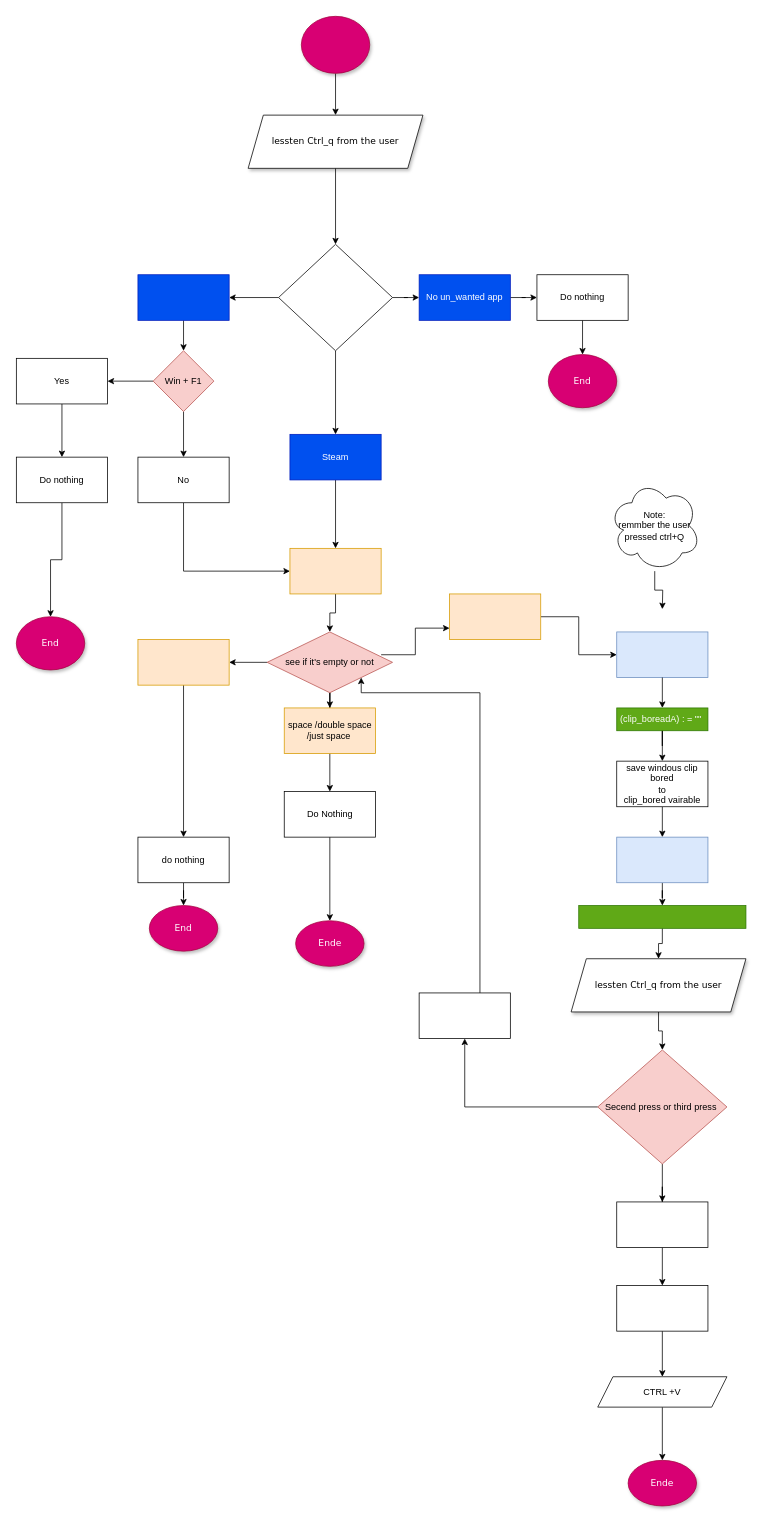
Some shapes in this 764 by 1525 pixel diagram are drawn without their labels. The centre of each missing label's shape, as x and y in pixels:
Browser: pixel 183 297
Ctrl_q = "[quote] %clip_bored% [/quote]": pixel 662 916
empty: pixel 183 662
grab the clipbored: pixel 335 571
Make new vairable: pixel 662 654
Make new varable: pixel 662 859
second press: pixel 662 1224
See if it's steam or NOt: pixel 335 297
send to clipbored Ctrl_q: pixel 662 1308
Starting node: pixel 336 46
text: pixel 495 616
Third press: pixel 464 1015
